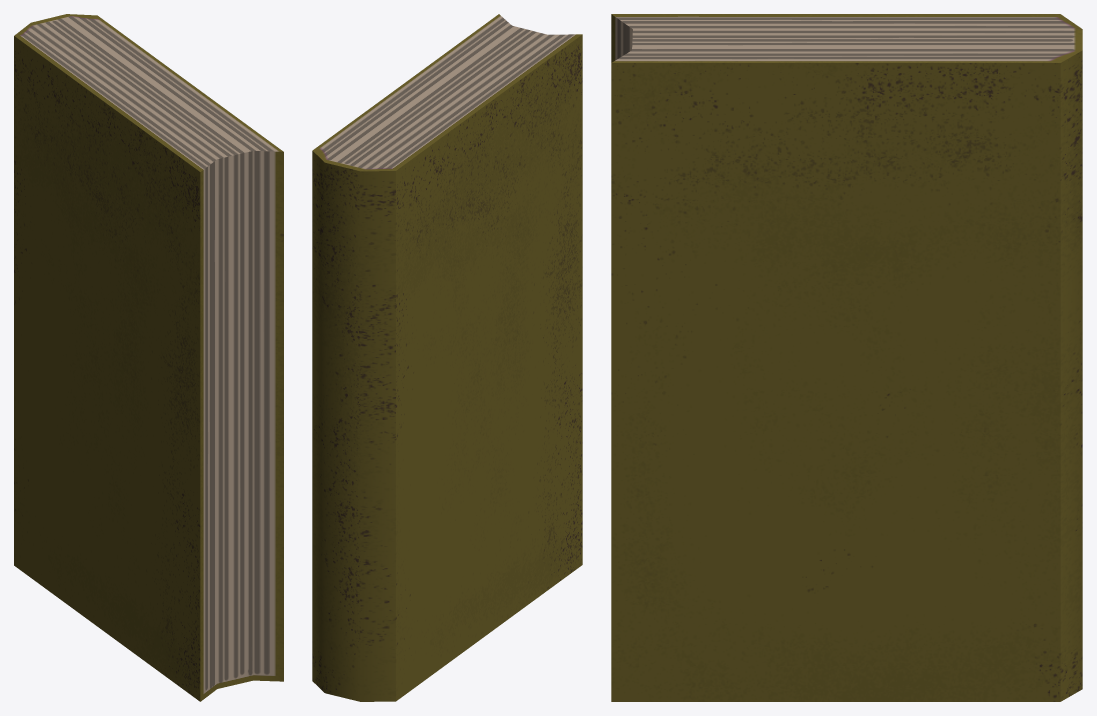
Rendered from GreenBook_exp.fbx.
3 views of the same model, side by side, from view 1: azimuth 30°, elevation 25°; view 2: azimuth 150°, elevation 25°; view 3: azimuth 270°, elevation 25° (orthographic). The views are drawn at different scales.
Visible parts, largest first — view 1: pCube2; view 2: pCube2; view 3: pCube2.
Part boxes in pixels (left/top/right/bottom): pCube2: left=14, top=14, right=283, bottom=701; pCube2: left=312, top=14, right=582, bottom=701; pCube2: left=611, top=14, right=1082, bottom=701.
Size of the model in its own units: 0.3412 by 2.07 by 1.38.
1 material, 1 textured.
